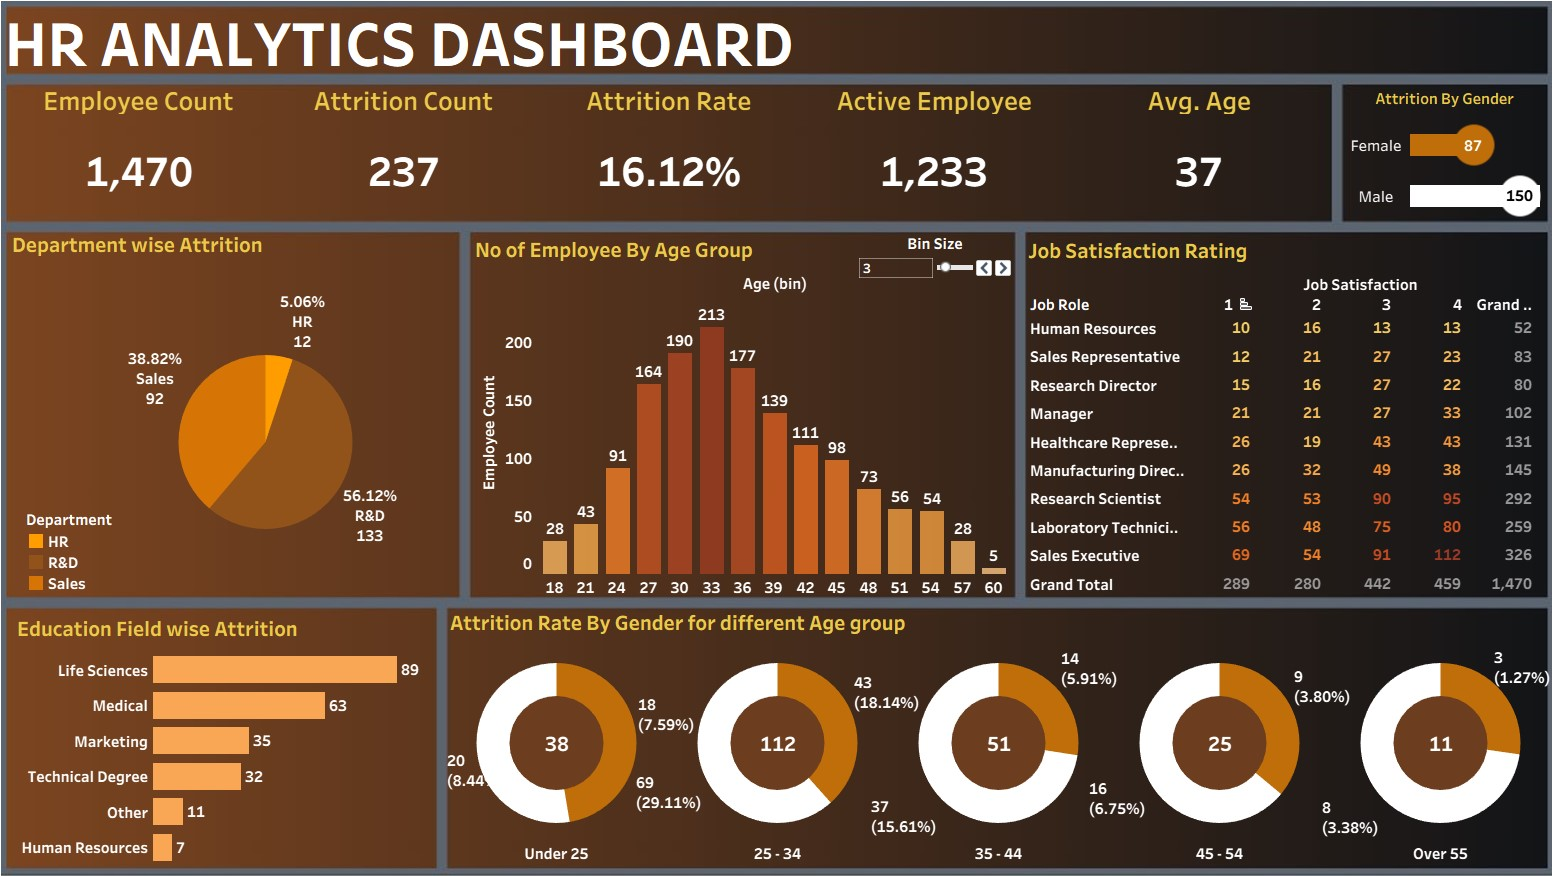

This screenshot's page, from the dashboard's own definition file:
{"tool":"tableau","page":{"name":"HR Analytics Dashboard","canvas":[1580,900],"ordinal":0},"visuals":[{"type":"image","param":"C:/Users/JHANVI ORUGUNTA/Desktop/tableau project bg.jpg","box":[8,8,1564,884]},{"type":"text","box":[14,17,1112,71]},{"type":"worksheet","title":"Attrition By Gender","mark":"Automatic","rows":["Gender"],"cols":["Calculation_2080944525620387840","Calculation_2080944525620387840"],"box":[1355,95,205,137]},{"type":"worksheet","title":"KPI","mark":"Automatic","box":[19,97,1326,139]},{"type":"worksheet","title":"Department wise Attrition","mark":"Pie","box":[21,237,515,390]},{"type":"worksheet","title":"No of Employee By Age Group","mark":"Bar","rows":["Employee Count"],"cols":["Age (bin)"],"box":[484,242,539,368]},{"type":"worksheet","title":"Job Satisfaction Rating","mark":"Automatic","rows":["Job Role"],"cols":["Job Satisfaction"],"box":[1037,243,512,366]},{"type":"parameter","param":"[Parameters].[Parameter 1]","box":[869,244,158,47]},{"type":"legend","title":"Department wise Attrition","param":"[federated.15tn63e1vrekz91f1bdvu01mmuj2].[none:Department:nk]","box":[39,520,115,86]},{"type":"worksheet","title":"Attrition Rate By Gender for different Age group","mark":"Pie","rows":["Calculation_2080944525657706500","Calculation_2080944525657706500"],"cols":["CF_age band"],"box":[459,615,1105,261]},{"type":"worksheet","title":"Education Field wise Attrition","mark":"Automatic","rows":["Education Field"],"cols":["Calculation_2080944525620387840"],"box":[26,621,422,255]}]}

Visuals, with their boxes in screenshot pixels (x1, y1, x2, y2), scaled from the page's 1580x900 canvas onto the 1554x876 screenshot:
image: {"x1": 8, "y1": 8, "x2": 1546, "y2": 868}
text: {"x1": 14, "y1": 17, "x2": 1107, "y2": 86}
"Attrition By Gender" worksheet: {"x1": 1333, "y1": 92, "x2": 1534, "y2": 226}
"KPI" worksheet: {"x1": 19, "y1": 94, "x2": 1323, "y2": 230}
"Department wise Attrition" worksheet (Pie marks): {"x1": 21, "y1": 231, "x2": 527, "y2": 610}
"No of Employee By Age Group" worksheet (Bar marks): {"x1": 476, "y1": 236, "x2": 1006, "y2": 594}
"Job Satisfaction Rating" worksheet: {"x1": 1020, "y1": 237, "x2": 1524, "y2": 593}
parameter: {"x1": 855, "y1": 237, "x2": 1010, "y2": 283}
"Department wise Attrition" legend: {"x1": 38, "y1": 506, "x2": 151, "y2": 590}
"Attrition Rate By Gender for different Age group" worksheet (Pie marks): {"x1": 451, "y1": 599, "x2": 1538, "y2": 853}
"Education Field wise Attrition" worksheet: {"x1": 26, "y1": 604, "x2": 441, "y2": 853}
